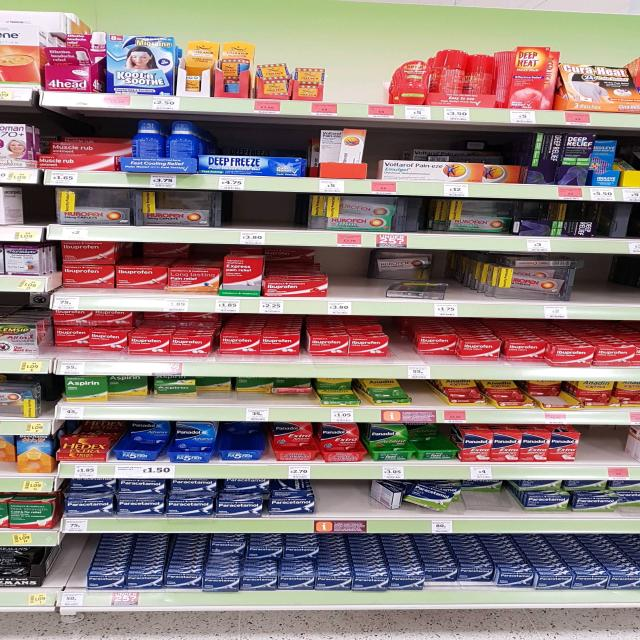void: (228, 194, 304, 243), (587, 257, 639, 319), (361, 39, 401, 118), (329, 253, 373, 315), (326, 41, 359, 116), (327, 481, 372, 532), (18, 184, 53, 240), (49, 554, 81, 608), (604, 427, 635, 479), (578, 425, 606, 481), (411, 382, 442, 422)
